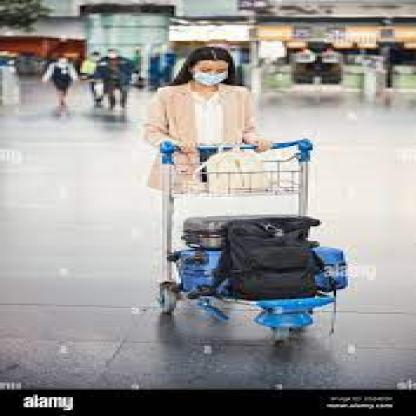airport-trolley: (149, 137, 351, 350)
